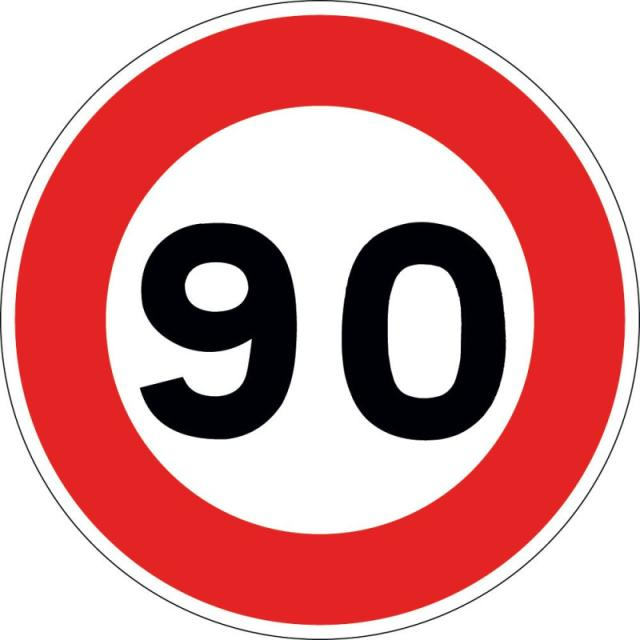speed: (2, 5, 640, 635)
